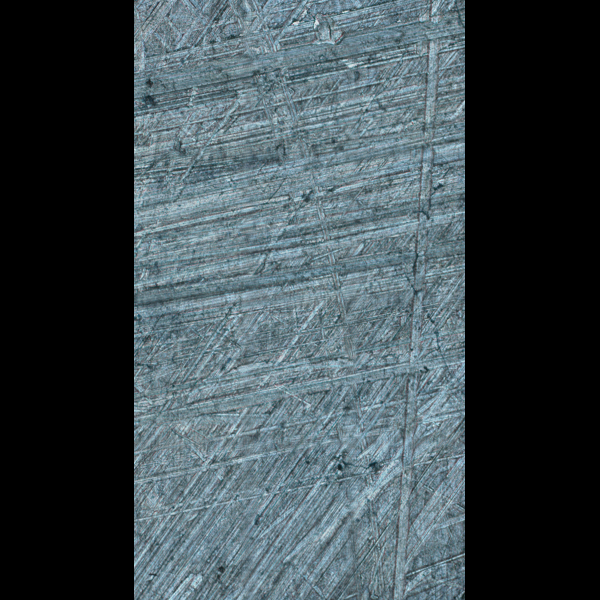d: (221, 0, 394, 599), (135, 295, 465, 433), (385, 0, 456, 599)
